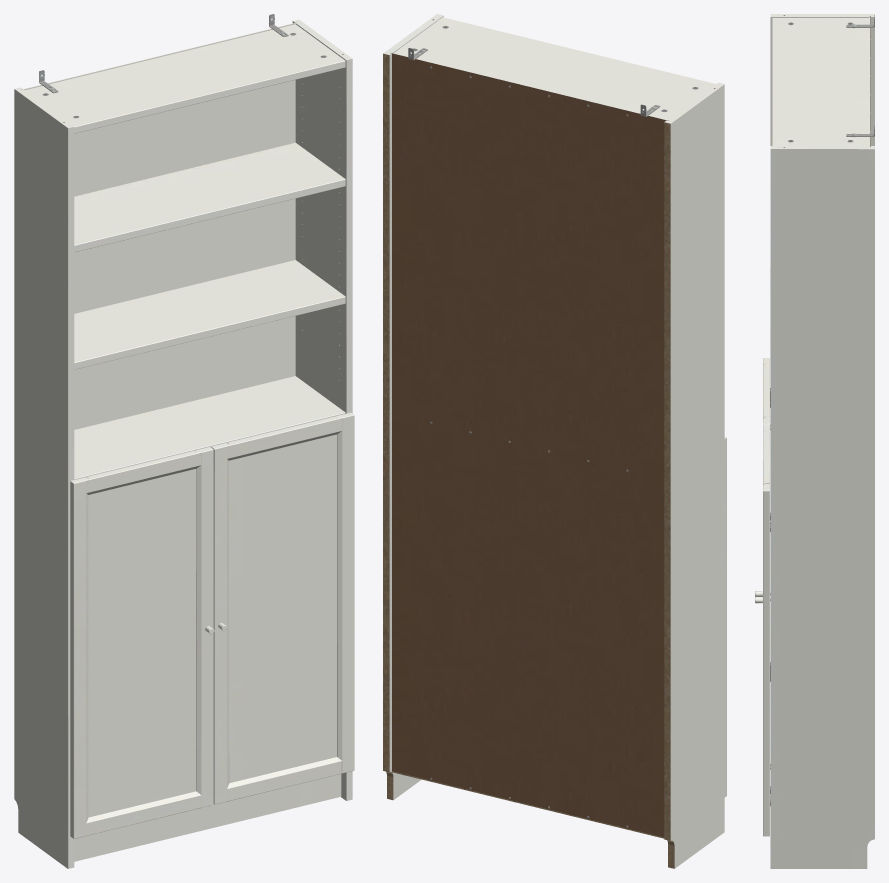
3 views of the same model, side by side, from view 1: azimuth 30°, elevation 25°; view 2: azimuth 150°, elevation 25°; view 3: azimuth 270°, elevation 25° (orthographic). The views are drawn at different scales.
Visible parts, largest first — view 1: Mesh_0; view 2: Mesh_0; view 3: Mesh_0.
Part boxes in pixels (bbox=[...]): Mesh_0: bbox=[14, 14, 354, 868]; Mesh_0: bbox=[383, 14, 726, 868]; Mesh_0: bbox=[755, 14, 874, 868].
Size of the model in its own units: 0.8 by 2.02 by 0.2999.
Materials: 1 (1 with a texture image).
